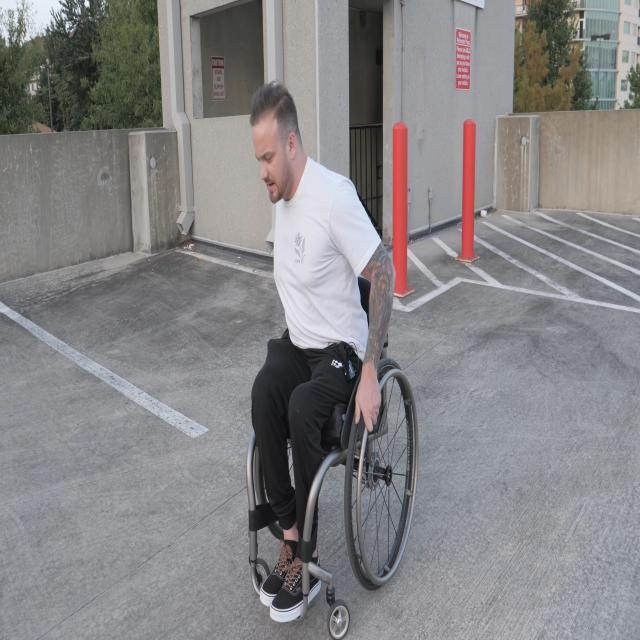wheelchairs: (246, 273, 418, 637)
